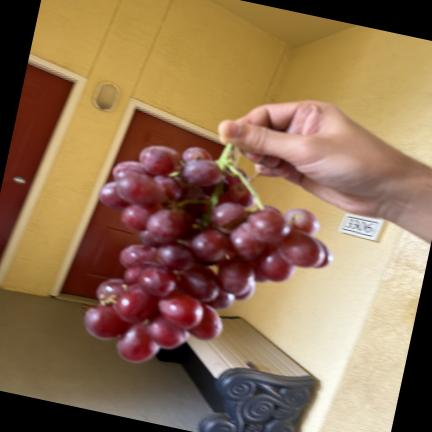grape_cluster: (85, 146, 332, 362)
